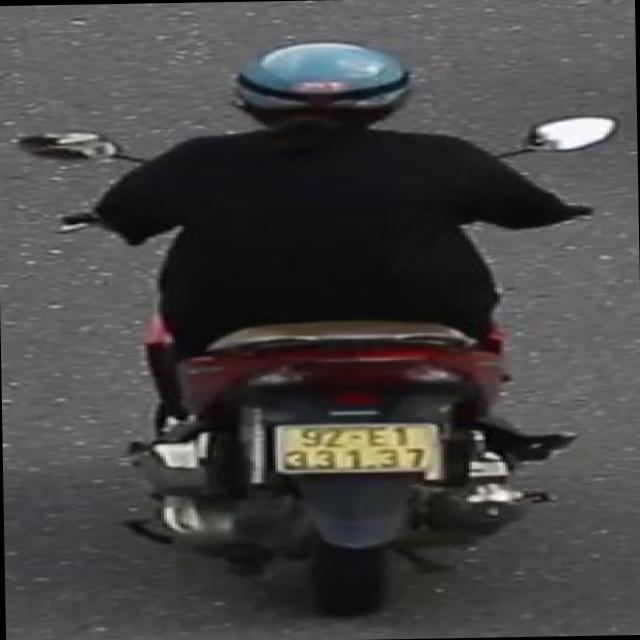LP: (266, 416, 448, 479)
helmet: (214, 34, 429, 148)
